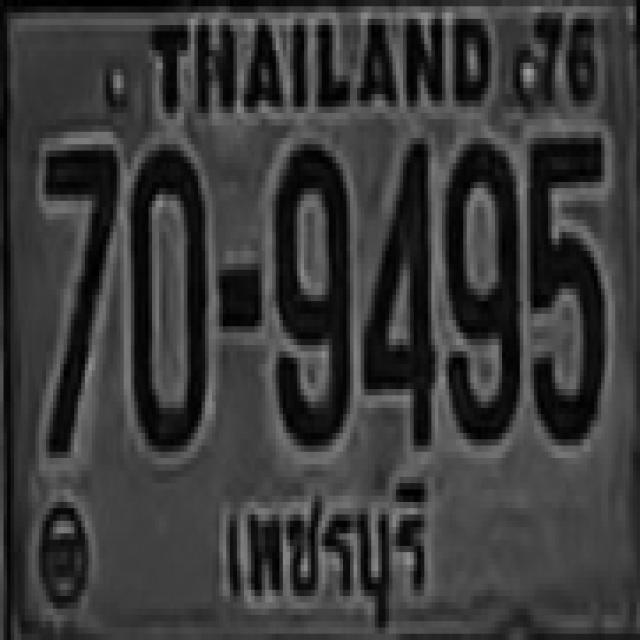0: (127, 138, 205, 446)
4: (361, 132, 431, 439)
5: (527, 132, 601, 439)
7: (42, 141, 117, 449)
9: (272, 135, 347, 442), (442, 138, 516, 439)
Phetchaburi: (216, 468, 438, 636)
